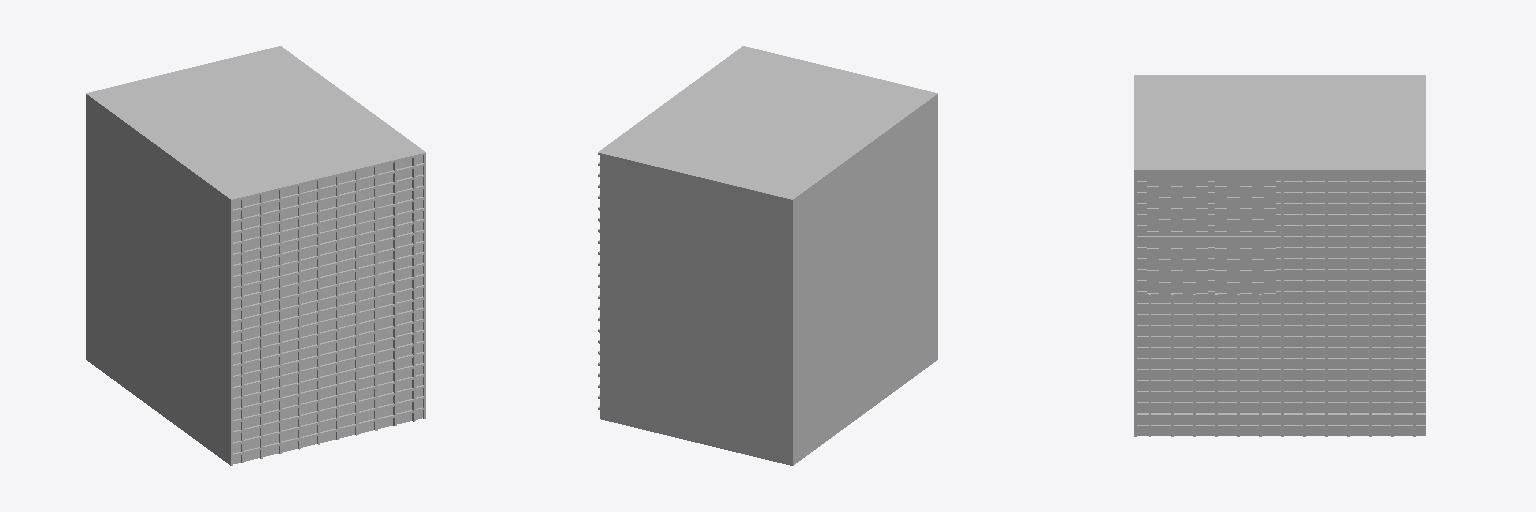
The model's file is 3d fon 1.1-3.obj.
3 views of the same model, side by side, from view 1: azimuth 30°, elevation 25°; view 2: azimuth 150°, elevation 25°; view 3: azimuth 270°, elevation 25° (orthographic).
Parts seen in each view (by area): view 1: object 1; view 2: object 1; view 3: object 1.
Boxes of the visible parts, <box> form: object 1: <box>86,46,425,465</box>; object 1: <box>598,46,937,465</box>; object 1: <box>1134,75,1425,436</box>.
Bounding box in the file's own units: 9.2 × 12 × 11.9.